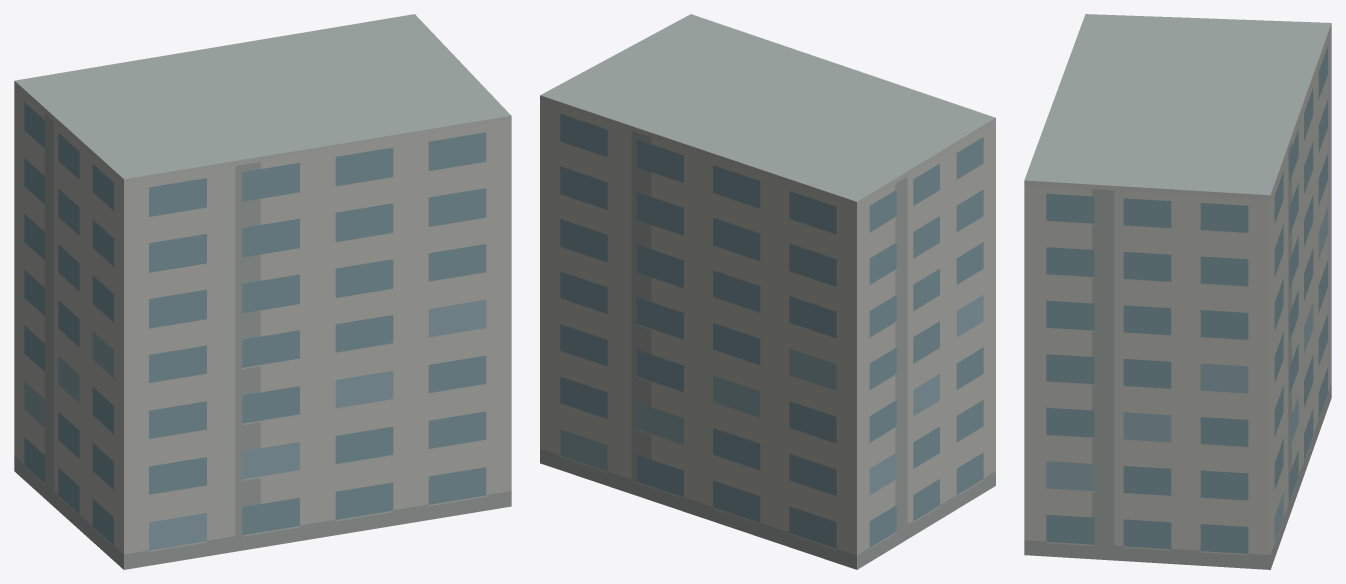
Rendered from survey-upis-32751273.glb.
3 renders of one model, left to right at view 1: azimuth 30°, elevation 25°; view 2: azimuth 150°, elevation 25°; view 3: azimuth 270°, elevation 25°, orthographic. The views are drawn at different scales.
Parts seen in each view (by area): view 1: survey-upis-32751273.tmp; view 2: survey-upis-32751273.tmp; view 3: survey-upis-32751273.tmp.
Boxes of the visible parts, x1=… form: survey-upis-32751273.tmp: x1=14, y1=14, x2=511, y2=569; survey-upis-32751273.tmp: x1=540, y1=14, x2=995, y2=569; survey-upis-32751273.tmp: x1=1024, y1=14, x2=1331, y2=569.
Size of the model in its own units: 19.83 by 19.1 by 14.22.
